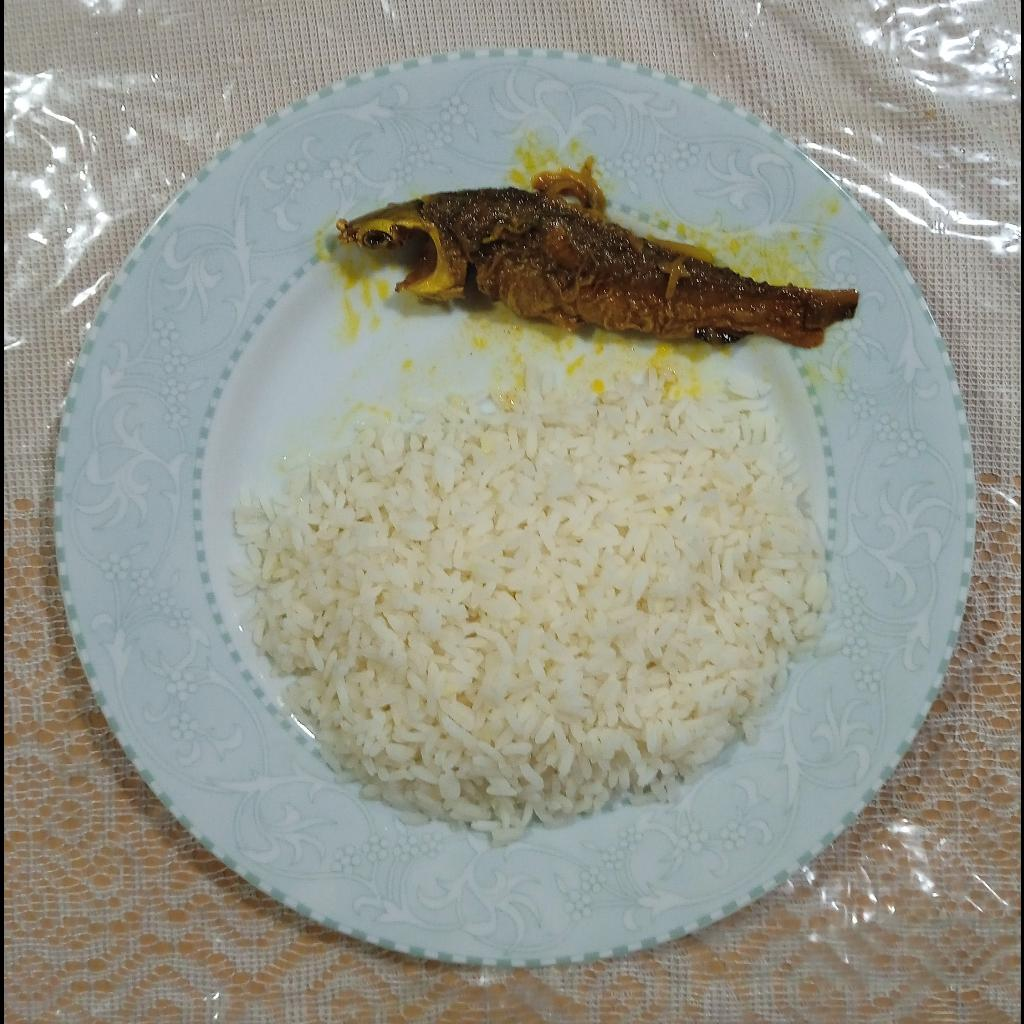fish: (335, 189, 860, 354)
rice: (238, 378, 831, 842)
